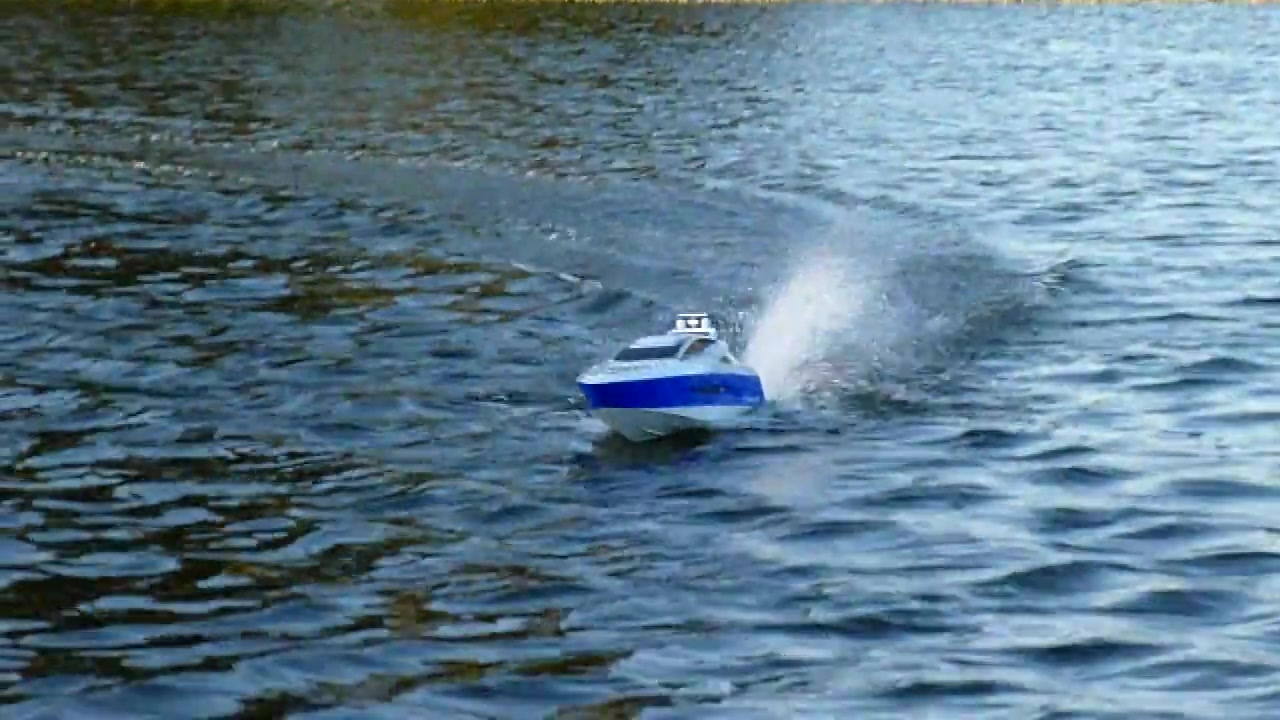boat: (570, 310, 766, 448)
